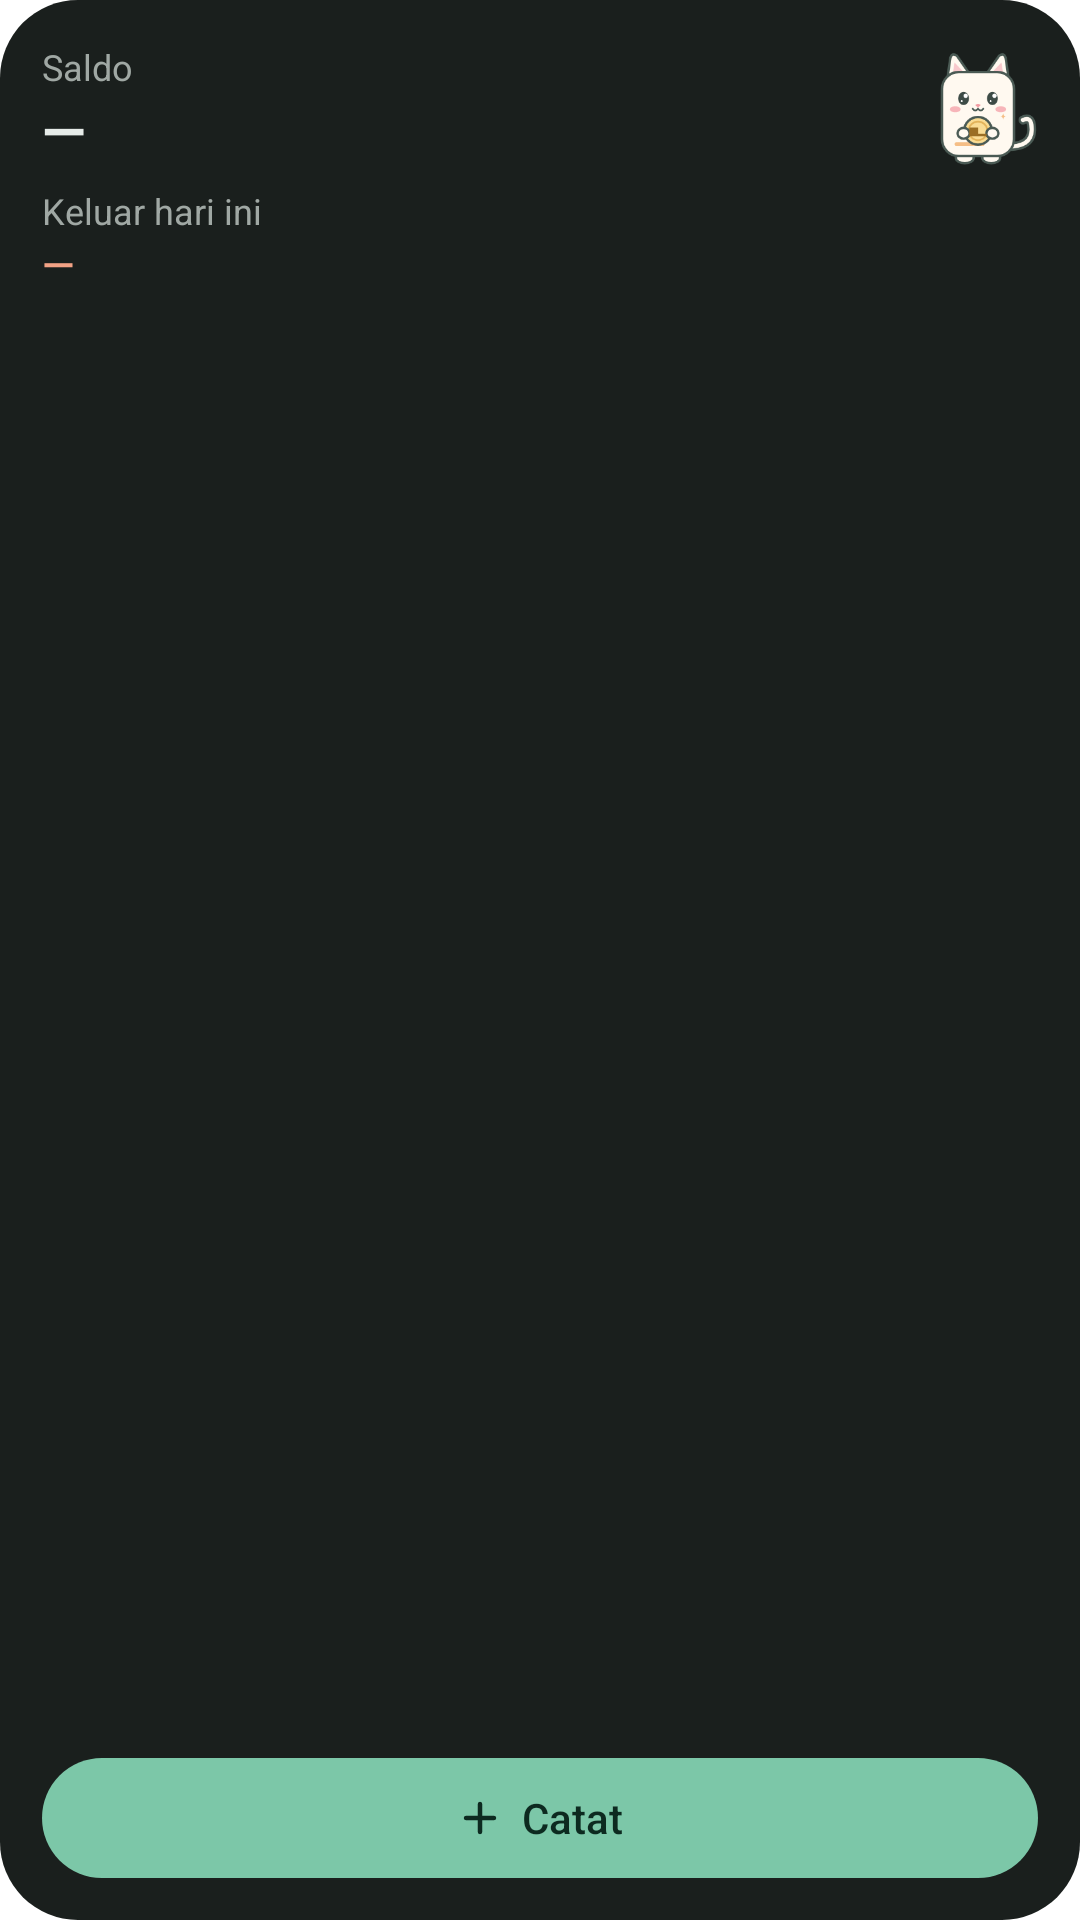

Icons on this 1080px x 1920px Android screen, each with the point to tap as point (x, y):
widget add: point (480, 1818)
widget kucing koin: point (988, 109)
